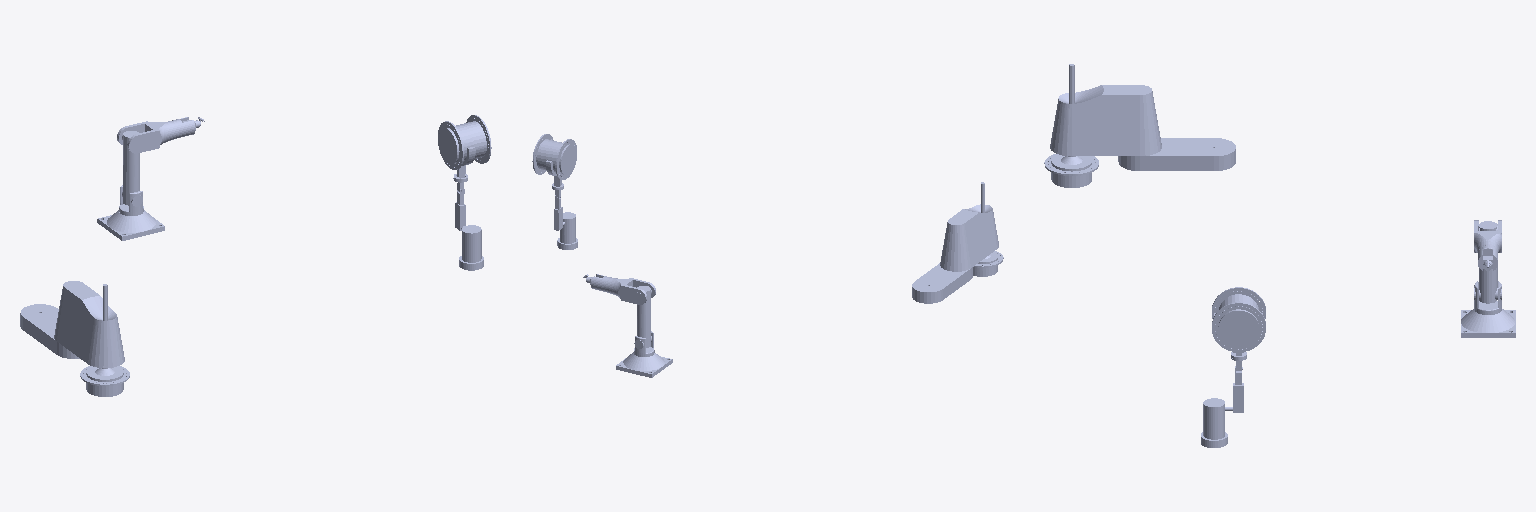
--- Render facts (derived) ---
The picture shows the robot from 3 angles, left to right: view 1: azimuth 30°, elevation 25°; view 2: azimuth 150°, elevation 25°; view 3: azimuth 270°, elevation 25°; orthographic projection.
Model combined_robot with 22 links and 21 joints (7 revolute, 6 continuous, 4 prismatic, 4 fixed), rooted at world, posed all joints at 0.
Visible links, largest first — view 1: link2, link_6a, link1, base_link_6achs, link_3_6achs, tool, link_2_6achs, link_1; view 2: link2, link_6a, link1, base_link_6achs, link_3_6achs, link_2_6achs; view 3: link2, link1, link_6a, base_link_6achs, tool, link_1, link_2_6achs, link_3_6achs.
Link boxes in pixels (left/top/right/bottom): link2: left=54, top=281, right=124, bottom=367; link_6a: left=438, top=115, right=491, bottom=176; link1: left=20, top=304, right=79, bottom=358; base_link_6achs: left=97, top=210, right=164, bottom=240; link_3_6achs: left=117, top=120, right=179, bottom=153; tool: left=80, top=366, right=129, bottom=396; link_2_6achs: left=122, top=131, right=142, bottom=206; link_1: left=462, top=225, right=481, bottom=262; link2: left=940, top=204, right=998, bottom=271; link_6a: left=532, top=134, right=576, bottom=186; link1: left=912, top=263, right=972, bottom=303; base_link_6achs: left=616, top=352, right=672, bottom=377; link_3_6achs: left=604, top=277, right=655, bottom=304; link_2_6achs: left=634, top=286, right=651, bottom=348; link2: left=1050, top=85, right=1161, bottom=155; link1: left=1118, top=138, right=1235, bottom=170; link_6a: left=1212, top=287, right=1265, bottom=355; base_link_6achs: left=1461, top=309, right=1515, bottom=337; tool: left=1044, top=154, right=1098, bottom=187; link_1: left=1203, top=398, right=1224, bottom=439; link_2_6achs: left=1474, top=221, right=1501, bottom=303; link_3_6achs: left=1474, top=220, right=1501, bottom=252.
Size in the robot's own frame: 2.2 by 1.72 by 0.6045 metres.
20 mesh visuals loaded from 21 distinct referenced files (20 binary STL); not drawn: 1 (reference not matched to a file when rendering).

The robot description file, URDF, robot "combined_robot":
<?xml version="1.0" encoding="utf-8" ?>
<!-- This URDF was automatically created by SolidWorks to URDF Exporter! Originally created by Stephen Brawner ([email redacted]) 
     Commit Version: 1.6.0-4-g7f85cfe  Build Version: 1.6.7995.38578
     For more information, please see http://wiki.ros.org/sw_urdf_exporter -->
    


<robot name="combined_robot">
     <!-- This first link called "world" is empty -->
<link name="world"></link>

<!-- A simple fixed joint from our empty world link, to our base. -->
<!-- The base origin is offset from the world origin. -->
<joint name="base_joint" type="fixed">
    <origin xyz="0 0 0" rpy="0 0 0"/>
    <parent link="world"/>
    <child link="base_link"/>        
</joint>

    <link name="base_link">
        <inertial>
            <origin xyz="0.0 0.0 0.0" rpy="0 0 0" />
            <mass value="2.6567611957561" />
            <inertia ixx="0.0168357984591433" ixy="4.82200266194366E-19" ixz="1.50069408169164E-18" iyy="0.0133970218668742" iyz="-0.000395379191915253" izz="0.0107623581223205" />
        </inertial>
        <visual>
            <origin xyz="0 0 0" rpy="0 0 0" />
            <geometry>
                <mesh filename="package://rod_gruppe9/meshes/scara/base_link.STL" />
            </geometry>
            <material name="">
                <color rgba="0.792156862745098 0.819607843137255 0.933333333333333 1" />
            </material>
        </visual>
        <collision>
            <origin xyz="0 0 0" rpy="0 0 0" />
            <geometry>
                <mesh filename="package://rod_gruppe9/meshes/scara/base_link.STL" />
            </geometry>
        </collision>
    </link>
    <link name="link1">
        <inertial>
            <origin xyz="0.135 -1.18507934044397E-17 0.03" rpy="0 0 0" />
            <mass value="3.78894680101771" />
            <inertia ixx="0.00859641966180862" ixy="1.32200727642509E-18" ixz="-4.58196296535307E-19" iyy="0.0516867751103564" iyz="1.27294101185764E-19" izz="0.0580098266915544" />
        </inertial>
        <visual>
            <origin xyz="0 0 0" rpy="0 0 0" />
            <geometry>
                <mesh filename="package://rod_gruppe9/meshes/scara/link1.STL" />
            </geometry>
            <material name="">
                <color rgba="0.792156862745098 0.819607843137255 0.933333333333333 1" />
            </material>
        </visual>
        <collision>
            <origin xyz="0 0 0" rpy="0 0 0" />
            <geometry>
                <mesh filename="package://rod_gruppe9/meshes/scara/link1.STL" />
            </geometry>
        </collision>
    </link>
    <joint name="joint1" type="continuous">
        <origin xyz="0 0 0.1975" rpy="0 0 -1.5708" />
        <parent link="base_link" />
        <child link="link1" />
        <axis xyz="0 0 1" />
        <limit lower="-3.1416" upper="3.1416" effort="300" velocity="3" />
    </joint>
    <link name="link2">
        <inertial>
            <origin xyz="0.119679645871635 -1.01210828955412E-16 0.105947989111426" rpy="0 0 0" />
            <mass value="9.47999512865787" />
            <inertia ixx="0.0493343542842483" ixy="2.57062906447754E-17" ixz="0.00487778045183892" iyy="0.134504349003584" iyz="-1.12084557614262E-18" izz="0.110533397930328" />
        </inertial>
        <visual>
            <origin xyz="0 0 0" rpy="0 0 0" />
            <geometry>
                <mesh filename="package://rod_gruppe9/meshes/scara/link2.STL" />
            </geometry>
            <material name="">
                <color rgba="0.792156862745098 0.819607843137255 0.933333333333333 1" />
            </material>
        </visual>
        <collision>
            <origin xyz="0 0 0" rpy="0 0 0" />
            <geometry>
                <mesh filename="package://rod_gruppe9/meshes/scara/link2.STL" />
            </geometry>
        </collision>
    </link>
    <joint name="joint2" type="revolute">
        <origin xyz="0.27 0 0.05" rpy="0 0 0" />
        <parent link="link1" />
        <child link="link2" />
        <axis xyz="0 0 1" />
        <limit lower="-3.1416" upper="3.1416" effort="200" velocity="3" />
    </joint>
    <link name="link3">
        <inertial>
            <origin xyz="0 2.76777304672324E-16 -0.152880740442008" rpy="0 0 0" />
            <mass value="0.0903207887907068" />
            <inertia ixx="0.00107497738302875" ixy="8.91804097908733E-22" ixz="8.08042713685118E-20" iyy="0.00107497738302875" iyz="1.30058416910138E-20" izz="7.66744957016757E-06" />
        </inertial>
        <visual>
            <origin xyz="0 0 0" rpy="0 0 0" />
            <geometry>
                <mesh filename="package://rod_gruppe9/meshes/scara/link3.STL" />
            </geometry>
            <material name="">
                <color rgba="0.792156862745098 0.819607843137255 0.933333333333333 1" />
            </material>
        </visual>
        <collision>
            <origin xyz="0 0 0" rpy="0 0 0" />
            <geometry>
                <mesh filename="package://rod_gruppe9/meshes/scara/link3.STL" />
            </geometry>
        </collision>
    </link>
    <joint
    name="joint3"
    type="prismatic">
    <origin
      xyz="0.25 0 0"
      rpy="3.14159265358979 0 0" />
    <parent
      link="link2" />
    <child
      link="link3" />
    <axis
      xyz="0 0 1" />
    <limit
      lower="0"
      upper="0.25"
      effort="200"
      velocity="1" />
    </joint>
    <link name="tool">
        <inertial>
            <origin xyz="0 4.84716480263527E-15 0.0173861724616842" rpy="0 0 0" />
            <mass value="0.0678521800680965" />
            <inertia ixx="2.32022327419396E-05" ixy="2.11318797113156E-21" ixz="7.37140243810216E-22" iyy="2.32022327419396E-05" iyz="3.18177719294624E-21" izz="3.08931138771722E-05" />
        </inertial>
        <visual>
            <origin xyz="0 0 0" rpy="0 0 0" />
            <geometry>
                <mesh filename="package://rod_gruppe9/meshes/scara/tool.STL" />
            </geometry>
            <material name="">
                <color rgba="0.792156862745098 0.819607843137255 0.933333333333333 1" />
            </material>
        </visual>
        <collision>
            <origin xyz="0 0 0" rpy="0 0 0" />
            <geometry>
                <mesh filename="package://rod_gruppe9/meshes/scara/tool.STL" />
            </geometry>
        </collision>
    </link>
    <joint name="joint4" type="continuous">
        <origin xyz="0 0 0.013206" rpy="0 0 0" />
        <parent link="link3" />
        <child link="tool" />
        <axis xyz="0 0 1" />
        <limit lower="-3.1416" upper="3.1416" effort="200" velocity="3" />
    </joint>

    <transmission name="link1_trans">
        <type>transmission_interface/SimpleTransmission</type>
        <joint name="joint1">
            <hardwareInterface>hardware_interface/PositionJointInterface</hardwareInterface>
        </joint>
        <actuator name="link1_motor">
            <hardwareInterface>hardware_interface/PositionJointInterface</hardwareInterface>
            <mechanicalReduction>1</mechanicalReduction>
        </actuator>
    </transmission>

    <transmission name="link2_trans">
        <type>transmission_interface/SimpleTransmission</type>
        <joint name="joint2">
            <hardwareInterface>hardware_interface/PositionJointInterface</hardwareInterface>
        </joint>
        <actuator name="link2_motor">
            <hardwareInterface>hardware_interface/PositionJointInterface</hardwareInterface>
            <mechanicalReduction>1</mechanicalReduction>
        </actuator>
    </transmission>

    <transmission name="link3_trans">
        <type>transmission_interface/SimpleTransmission</type>
        <joint name="joint3">
            <hardwareInterface>hardware_interface/PositionJointInterface</hardwareInterface>
        </joint>
        <actuator name="link3_motor">
            <hardwareInterface>hardware_interface/PositionJointInterface</hardwareInterface>
            <mechanicalReduction>1</mechanicalReduction>
        </actuator>
    </transmission>    
    <transmission name="link4_trans">
        <type>transmission_interface/SimpleTransmission</type>
        <joint name="joint4">
            <hardwareInterface>hardware_interface/PositionJointInterface</hardwareInterface>
        </joint>
        <actuator name="link4_motor">
            <hardwareInterface>hardware_interface/PositionJointInterface</hardwareInterface>
            <mechanicalReduction>1</mechanicalReduction>
        </actuator>
    </transmission>

    <gazebo>
        <plugin name="control" filename="libgazebo_ros_control.so">
            <robotNamespace>/</robotNamespace>
        </plugin>
    </gazebo>


    <!-- A simple fixed joint from our empty world link, to our base. -->
    <!-- The base origin is offset from the world origin. -->
    <joint name="base_joint_stand" type="fixed">
    <origin xyz="2 0 0" rpy="0 0 0"/>
    <parent link="world"/>
    <child link="base_link_stand"/>        
    </joint>
     <link name="base_link_stand">
        <inertial>
            <origin xyz="4.9435E-35 5.4554E-20 0.011279" rpy="0 0 0" />
            <mass value="0.13509" />
            <inertia ixx="0.00011699" ixy="-4.5215E-37" ixz="-4.8534E-37" iyy="0.00011699" iyz="9.9676E-21" izz="0.0002141" />
        </inertial>
        <visual>
            <origin xyz="0 0 0" rpy="0 0 0" />
            <geometry>
                <mesh filename="package://rod_gruppe9/meshes/sf/base_link.STL" />
            </geometry>
            <material name="">
                <color rgba="0.79216 0.81961 0.93333 1" />
            </material>
        </visual>
        <collision>
            <origin xyz="0 0 0" rpy="0 0 0" />
            <geometry>
                <mesh filename="package://rod_gruppe9/meshes/sf/base_link.STL" />
            </geometry>
        </collision>
    </link>
    <link name="link_1">
        <inertial>
            <origin xyz="-7.4891E-10 -4.7885E-05 0.074934" rpy="0 0 0" />
            <mass value="0.75302" />
            <inertia ixx="0.0017114" ixy="1.8868E-11" ixz="2.447E-11" iyy="0.0017127" iyz="1.8546E-06" izz="0.00060182" />
        </inertial>
        <visual>
            <origin xyz="0 0 0" rpy="0 0 0" />
            <geometry>
                <mesh filename="package://rod_gruppe9/meshes/sf/link_1.STL" />
            </geometry>
            <material name="">
                <color rgba="0.79216 0.81961 0.93333 1" />
            </material>
        </visual>
        <collision>
            <origin xyz="0 0 0" rpy="0 0 0" />
            <geometry>
                <mesh filename="package://rod_gruppe9/meshes/sf/link_1.STL" />
            </geometry>
        </collision>
    </link>
    <joint name="joint_1" type="revolute">
        <origin xyz="0 0 0.00999999999999999" rpy="0 0 0" />
        <parent link="base_link_stand" />
        <child link="link_1" />
        <axis xyz="0 0 1" />
        <limit lower="-3.142" upper="3.142" effort="300" velocity="3" />
    </joint>
    <link name="link_2">
        <inertial>
            <origin xyz="-0.00046328 0.036544 0.051063" rpy="0 0 0" />
            <mass value="0.067037" />
            <inertia ixx="7.8176E-05" ixy="7.7561E-07" ixz="-9.2615E-09" iyy="1.7005E-05" iyz="7.3056E-07" izz="6.9541E-05" />
        </inertial>
        <visual>
            <origin xyz="0 0 0" rpy="0 0 0" />
            <geometry>
                <mesh filename="package://rod_gruppe9/meshes/sf/link_2.STL" />
            </geometry>
            <material name="">
                <color rgba="0.79216 0.81961 0.93333 1" />
            </material>
        </visual>
        <collision>
            <origin xyz="0 0 0" rpy="0 0 0" />
            <geometry>
                <mesh filename="package://rod_gruppe9/meshes/sf/link_2.STL" />
            </geometry>
        </collision>
    </link>
    <joint name="joint_2" type="revolute">
        <origin xyz="0 0.0350000000000001 0.126355838406198" rpy="1.5707963267949 0 3.14159265358979" />
        <parent link="link_1" />
        <child link="link_2" />
        <axis xyz="0 0 1" />
        <limit lower="-3.142" upper="3.142" effort="200" velocity="3" />
    </joint>
    <link name="link_3">
        <inertial>
            <origin xyz="0 -6.3708E-16 0.051846" rpy="0 0 0" />
            <mass value="0.051607" />
            <inertia ixx="4.8927E-05" ixy="4.7724E-22" ixz="2.7252E-21" iyy="5.0005E-05" iyz="5.5849E-19" izz="4.5393E-06" />
        </inertial>
        <visual>
            <origin xyz="0 0 0" rpy="0 0 0" />
            <geometry>
                <mesh filename="package://rod_gruppe9/meshes/sf/link_3.STL" />
            </geometry>
            <material name="">
                <color rgba="0.79216 0.81961 0.93333 1" />
            </material>
        </visual>
        <collision>
            <origin xyz="0 0 0" rpy="0 0 0" />
            <geometry>
                <mesh filename="package://rod_gruppe9/meshes/sf/link_3.STL" />
            </geometry>
        </collision>
    </link>
    <joint name="joint_3" type="prismatic">
        <origin xyz="-0.0006355 0.050129 0.055" rpy="-1.5835 1.5708 0" />
        <parent link="link_2" />
        <child link="link_3" />
        <axis xyz="0 0 1" />
        <limit lower="-0.04" upper="0.04" effort="100" velocity="3" />
    </joint>
    <link name="link_4">
        <inertial>
            <origin xyz="-0.00045006 0.029931 1.3878E-17" rpy="0 0 0" />
            <mass value="0.03453" />
            <inertia ixx="1.5049E-05" ixy="9.1656E-08" ixz="3.1495E-23" iyy="7.8206E-06" iyz="4.2911E-23" izz="1.4931E-05" />
        </inertial>
        <visual>
            <origin xyz="0 0 0" rpy="0 0 0" />
            <geometry>
                <mesh filename="package://rod_gruppe9/meshes/sf/link_4.STL" />
            </geometry>
            <material name="">
                <color rgba="0.79216 0.81961 0.93333 1" />
            </material>
        </visual>
        <collision>
            <origin xyz="0 0 0" rpy="0 0 0" />
            <geometry>
                <mesh filename="package://rod_gruppe9/meshes/sf/link_4.STL" />
            </geometry>
        </collision>
    </link>
    <joint name="joint_4" type="revolute">
        <origin xyz="0 7.0607E-05 0.113" rpy="1.5708 0.012677 1.5708" />
        <parent link="link_3" />
        <child link="link_4" />
        <axis xyz="0 0 -1" />
        <limit lower="-2" upper="2" effort="200" velocity="3" />
    </joint>
    <link name="link_5">
        <inertial>
            <origin xyz="0 -2.2118E-17 0.0042083" rpy="0 0 0" />
            <mass value="0.022667" />
            <inertia ixx="6.1085E-06" ixy="-1.0751E-22" ixz="-2.6291E-22" iyy="5.7585E-06" iyz="-2.0494E-20" izz="1.1478E-05" />
        </inertial>
        <visual>
            <origin xyz="0 0 0" rpy="0 0 0" />
            <geometry>
                <mesh filename="package://rod_gruppe9/meshes/sf/link_5.STL" />
            </geometry>
            <material name="">
                <color rgba="0.79216 0.81961 0.93333 1" />
            </material>
        </visual>
        <collision>
            <origin xyz="0 0 0" rpy="0 0 0" />
            <geometry>
                <mesh filename="package://rod_gruppe9/meshes/sf/link_5.STL" />
            </geometry>
        </collision>
    </link>
    <joint name="joint_5" type="continuous">
        <origin xyz="-0.0006972 0.049426 0" rpy="-1.5835 1.5708 0" />arm
        <parent link="link_4" />
        <child link="link_5" />
        <axis xyz="0 0 1" />
        <limit lower="-3.142" upper="3.142" effort="200" velocity="3" />
    </joint>
    <link name="link_6a">
        <inertial>
            <origin xyz="0.013904 0.086561 0.044102" rpy="0 0 0" />
            <mass value="0.08179" />
            <inertia ixx="0.00021265" ixy="1.625E-06" ixz="1.1908E-06" iyy="8.4494E-05" iyz="-9.3935E-05" izz="0.00014047" />
        </inertial>
        <visual>
            <origin xyz="0 0 0" rpy="0 0 0" />
            <geometry>
                <mesh filename="package://rod_gruppe9/meshes/sf/link_6a.STL" />
            </geometry>
            <material name="">
                <color rgba="0.79216 0.81961 0.93333 1" />
            </material>
        </visual>
        <collision>
            <origin xyz="0 0 0" rpy="0 0 0" />
            <geometry>
                <mesh filename="package://rod_gruppe9/meshes/sf/link_6a.STL" />
            </geometry>
        </collision>
    </link>
    <joint name="joint_6a" type="prismatic">
        <origin xyz="0 -0.015 0.00499999999999995" rpy="1.5707963267949 0.0126766145015173 1.5707963267949" />
        <parent link="link_5" />
        <child link="link_6a" />
        <axis xyz="0 0 -1" />
        <limit lower="-0.01" upper="0" effort="100" velocity="3" />
    </joint>
    <link name="link_6b">
        <inertial>
            <origin xyz="0.016094 0.08618 0.044102" rpy="0 0 0" />
            <mass value="0.08179" />
            <inertia ixx="0.00021265" ixy="-1.625E-06" ixz="-1.1908E-06" iyy="8.4494E-05" iyz="-9.3935E-05" izz="0.00014047" />
        </inertial>
        <visual>
            <origin xyz="0 0 0" rpy="0 0 0" />
            <geometry>
                <mesh filename="package://rod_gruppe9/meshes/sf/link_6b.STL" />
            </geometry>
            <material name="">
                <color rgba="0.79216 0.81961 0.93333 1" />
            </material>
        </visual>
        <collision>
            <origin xyz="0 0 0" rpy="0 0 0" />
            <geometry>
                <mesh filename="package://rod_gruppe9/meshes/sf/link_6b.STL" />
            </geometry>
        </collision>
    </link>
    <joint name="joint_6b" type="prismatic">
        <origin xyz="0 0.015 0.005" rpy="1.5707963267949 -0.0126766145015173 -1.5707963267949" />
        <parent link="link_5" />
        <child link="link_6b" />
        <axis xyz="0 0 1" />
        <limit lower="0" upper="0.01" effort="100" velocity="3" />
    </joint>

    <transmission name="joint_1_trans">
        <type>transmission_interface/SimpleTransmission</type>
        <joint name="joint_1">
            <hardwareInterface>hardware_interface/PositionJointInterface</hardwareInterface>
        </joint>
        <actuator name="joint_1_motor">
            <hardwareInterface>hardware_interface/PositionJointInterface</hardwareInterface>
            <mechanicalReduction>1</mechanicalReduction>
        </actuator>
    </transmission>
    <transmission name="joint_2_trans">
        <type>transmission_interface/SimpleTransmission</type>
        <joint name="joint_2">
            <hardwareInterface>hardware_interface/PositionJointInterface</hardwareInterface>
        </joint>
        <actuator name="joint_2_motor">
            <hardwareInterface>hardware_interface/PositionJointInterface</hardwareInterface>
            <mechanicalReduction>1</mechanicalReduction>
        </actuator>
    </transmission>
    <transmission name="joint_3_trans">
        <type>transmission_interface/SimpleTransmission</type>
        <joint name="joint_3">
            <hardwareInterface>hardware_interface/PositionJointInterface</hardwareInterface>
        </joint>
        <actuator name="joint_3_motor">
            <hardwareInterface>hardware_interface/PositionJointInterface</hardwareInterface>
            <mechanicalReduction>1</mechanicalReduction>
        </actuator>
    </transmission>
    <transmission name="joint_4_trans">
        <type>transmission_interface/SimpleTransmission</type>
        <joint name="joint_4">
            <hardwareInterface>hardware_interface/PositionJointInterface</hardwareInterface>
        </joint>
        <actuator name="joint_4_motor">
            <hardwareInterface>hardware_interface/PositionJointInterface</hardwareInterface>
            <mechanicalReduction>1</mechanicalReduction>
        </actuator>
    </transmission>
    <transmission name="joint_5_trans">
        <type>transmission_interface/SimpleTransmission</type>
        <joint name="joint_5">
            <hardwareInterface>hardware_interface/PositionJointInterface</hardwareInterface>
        </joint>
        <actuator name="joint_5_motor">
            <hardwareInterface>hardware_interface/PositionJointInterface</hardwareInterface>
            <mechanicalReduction>1</mechanicalReduction>
        </actuator>
    </transmission>
    <transmission name="joint_6a_trans">
        <type>transmission_interface/SimpleTransmission</type>
        <joint name="joint_6a">
            <hardwareInterface>hardware_interface/PositionJointInterface</hardwareInterface>
        </joint>
        <actuator name="joint_6a_motor">
            <hardwareInterface>hardware_interface/PositionJointInterface</hardwareInterface>
            <mechanicalReduction>1</mechanicalReduction>
        </actuator>
    </transmission>
    <transmission name="joint_6b_trans">
        <type>transmission_interface/SimpleTransmission</type>
        <joint name="joint_6b">
            <hardwareInterface>hardware_interface/PositionJointInterface</hardwareInterface>
        </joint>
        <actuator name="joint_6b_motor">
            <hardwareInterface>hardware_interface/PositionJointInterface</hardwareInterface>
            <mechanicalReduction>1</mechanicalReduction>
        </actuator>
    </transmission>



<!-- A simple fixed joint from our empty world link, to our base. -->
<!-- The base origin is offset from the world origin. -->
<joint name="base_joint_6achs" type="fixed">
    <origin xyz="1 1 0" rpy="0 0 0"/>
    <parent link="world"/>
    <child link="base_link_6achs"/>
</joint>
    <link name="base_link_6achs">
        <inertial>
            <origin xyz="-7.65913819225736E-18 -1.65225008627066E-17 0.0231174307669445" rpy="0 0 0" />
            <mass value="1.48126745690034" />
            <inertia ixx="0.00443828527591986" ixy="-1.12496563307212E-19" ixz="-8.00391412143529E-20" iyy="0.00443828527591986" iyz="-1.31127790466798E-19" izz="0.00801675599160512" />
        </inertial>
        <visual>
            <origin xyz="0 0 0" rpy="0 0 0" />
            <geometry>
                <mesh filename="package://rod_gruppe9/meshes/industrie/base_link.STL" />
            </geometry>
            <material name="">
                <color rgba="0.792156862745098 0.819607843137255 0.933333333333333 1" />
            </material>
        </visual>
        <collision>
            <origin xyz="0 0 0" rpy="0 0 0" />
            <geometry>
                <mesh filename="package://rod_gruppe9/meshes/industrie/base_link.STL" />
            </geometry>
        </collision>
    </link>
    <link name="link_1_6achs">
        <inertial>
            <origin xyz="1.99528726028179E-07 0.0486270641944972 2.10351221188802E-07" rpy="0 0 0" />
            <mass value="0.438280954269068" />
            <inertia ixx="0.000715853112437167" ixy="9.52592448290363E-10" ixz="-3.79963987259125E-10" iyy="0.000472021483764293" iyz="-3.08273105834107E-09" izz="0.000632953259889368" />
        </inertial>
        <visual>
            <origin xyz="0 0 0" rpy="0 0 0" />
            <geometry>
                <mesh filename="package://rod_gruppe9/meshes/industrie/link_1.STL" />
            </geometry>
            <material name="">
                <color rgba="0.792156862745098 0.819607843137255 0.933333333333333 1" />
            </material>
        </visual>
        <collision>
            <origin xyz="0 0 0" rpy="0 0 0" />
            <geometry>
                <mesh filename="package://rod_gruppe9/meshes/industrie/link_1.STL" />
            </geometry>
        </collision>
    </link>
    <joint name="joint_1_6achs" type="continuous">
        <origin xyz="0 0 0.02" rpy="1.5708 0 -0.004171" />
        <parent link="base_link_6achs" />
        <child link="link_1_6achs" />
        <axis xyz="0 1 0" />
        <limit lower="-3.142" upper="3.142" effort="300" velocity="3" />
    </joint>
    <link name="link_2_6achs">
        <inertial>
            <origin xyz="-4.2478E-08 0.125 -3.4596E-08" rpy="0 0 0" />
            <mass value="1.2912" />
            <inertia ixx="0.011403" ixy="9.72E-10" ixz="-2.0875E-08" iyy="0.00096657" iyz="-3.0854E-10" izz="0.011193" />
        </inertial>
        <visual>
            <origin xyz="0 0 0" rpy="0 0 0" />
            <geometry>
                <mesh filename="package://rod_gruppe9/meshes/industrie/link_2.STL" />
            </geometry>
            <material name="">
                <color rgba="0.79216 0.81961 0.93333 1" />
            </material>
        </visual>
        <collision>
            <origin xyz="0 0 0" rpy="0 0 0" />
            <geometry>
                <mesh filename="package://rod_gruppe9/meshes/industrie/link_2.STL" />
            </geometry>
        </collision>
    </link>
    <joint name="joint_2_6achs" type="revolute">
        <origin xyz="0 0.115 0" rpy="0 0 -0.0040796" />
        <parent link="link_1_6achs" />
        <child link="link_2_6achs" />
        <axis xyz="0 0 -1" />
        <limit lower="-1.57" upper="1.57" effort="200" velocity="3" />
    </joint>
    <link name="link_3_6achs">
        <inertial>
            <origin xyz="0.109348441575462 -1.99745626816572E-07 5.31674409937197E-06" rpy="0 0 0" />
            <mass value="0.920734584243157" />
            <inertia ixx="0.00123481503488863" ixy="1.88791641606062E-09" ixz="-9.69904621001955E-08" iyy="0.00353416759146799" iyz="-7.51685200619273E-08" izz="0.00318564736605118" />
        </inertial>
        <visual>
            <origin xyz="0 0 0" rpy="0 0 0" />
            <geometry>
                <mesh filename="package://rod_gruppe9/meshes/industrie/link_3.STL" />
            </geometry>
            <material name="">
                <color rgba="0.792156862745098 0.819607843137255 0.933333333333333 1" />
            </material>
        </visual>
        <collision>
            <origin xyz="0 0 0" rpy="0 0 0" />
            <geometry>
                <mesh filename="package://rod_gruppe9/meshes/industrie/link_3.STL" />
            </geometry>
        </collision>
    </link>
    <joint name="joint_3_6achs" type="revolute">
        <origin xyz="0 0.25 0" rpy="0 0 0.0040796" />
        <parent link="link_2_6achs" />
        <child link="link_3_6achs" />
        <axis xyz="0 0 1" />
        <limit lower="-1" upper="3.842" effort="200" velocity="3" />
    </joint>
    <link name="link_4_6achs">
        <inertial>
            <origin xyz="-1.4159E-05 -5.3011E-08 0.0294" rpy="0 0 0" />
            <mass value="0.20568" />
            <inertia ixx="0.00015971" ixy="-1.5609E-09" ixz="6.3762E-08" iyy="0.00020268" iyz="2.0077E-10" izz="0.00016446" />
        </inertial>
        <visual>
            <origin xyz="0 0 0" rpy="0 0 0" />
            <geometry>
                <mesh filename="package://rod_gruppe9/meshes/industrie/link_4.STL" />
            </geometry>
            <material name="">
                <color rgba="0.79216 0.81961 0.93333 1" />
            </material>
        </visual>
        <collision>
            <origin xyz="0 0 0" rpy="0 0 0" />
            <geometry>
                <mesh filename="package://rod_gruppe9/meshes/industrie/link_4.STL" />
            </geometry>
        </collision>
    </link>
    <joint name="joint_4_6achs" type="continuous">
        <origin xyz="0.2 0 -0.0008228" rpy="0 1.5708 0" />
        <parent link="link_3_6achs" />
        <child link="link_4_6achs" />
        <axis xyz="0 0 1" />
        <limit lower="-3.142" upper="3.142" effort="200" velocity="3" />
    </joint>
    <link name="link_5_6achs">
        <inertial>
            <origin xyz="0.0142499205576026 -5.84687838128817E-05 0.000181348520742203" rpy="0 0 0" />
            <mass value="0.0654655001023935" />
            <inertia ixx="1.27177294982131E-05" ixy="5.0014856558915E-08" ixz="-4.16535488254867E-08" iyy="2.49588859772313E-05" iyz="1.78273937310105E-10" izz="2.45679149734406E-05" />
        </inertial>
        <visual>
            <origin xyz="0 0 0" rpy="0 0 0" />
            <geometry>
                <mesh filename="package://rod_gruppe9/meshes/industrie/link_5.STL" />
            </geometry>
            <material name="">
                <color rgba="0.792156862745098 0.819607843137255 0.933333333333333 1" />
            </material>
        </visual>
        <collision>
            <origin xyz="0 0 0" rpy="0 0 0" />
            <geometry>
                <mesh filename="package://rod_gruppe9/meshes/industrie/link_5.STL" />
            </geometry>
        </collision>
    </link>
    <joint name="joint_5_6achs" type="revolute">
        <origin xyz="0.00022572 0 0.051381" rpy="0 -1.5708 0" />
        <parent link="link_4_6achs" />
        <child link="link_5_6achs" />
        <axis xyz="0 0 1" />
        <limit lower="-1.57" upper="1.57" effort="200" velocity="3" />
    </joint>
    <link name="link_6_6achs">
        <inertial>
            <origin xyz="5.5511E-17 2.2204E-16 0.0125" rpy="0 0 0" />
            <mass value="0.00968" />
            <inertia ixx="9.4706E-07" ixy="-1.8529E-22" ixz="-5.2733E-23" iyy="9.4706E-07" iyz="3.3521E-22" izz="8.8577E-07" />
        </inertial>
        <visual>
            <origin xyz="0 0 0" rpy="0 0 0" />
            <geometry>
                <mesh filename="package://rod_gruppe9/meshes/industrie/link_6.STL" />
            </geometry>
            <material name="">
                <color rgba="0.79216 0.81961 0.93333 1" />
            </material>
        </visual>
        <collision>
            <origin xyz="0 0 0" rpy="0 0 0" />
            <geometry>
                <mesh filename="package://rod_gruppe9/meshes/industrie/link_6.STL" />
            </geometry>
        </collision>
    </link>
    <joint name="joint_6_6achs" type="continuous">
        <origin xyz="0.034928 -0.00014279 0.00022572" rpy="-1.5708 0.7854 -1.5749" />
        <parent link="link_5_6achs" />
        <child link="link_6_6achs" />
        <axis xyz="0 0 1" />
        <limit lower="-3.142" upper="3.142" effort="200" velocity="3" />
    </joint>
    <link name="link_7_6achs">
        <inertial>
            <origin xyz="-1.0716E-08 -0.0093376 0.0028893" rpy="0 0 0" />
            <mass value="0.0042407" />
            <inertia ixx="5.3114E-07" ixy="-9.2275E-14" ixz="8.2658E-14" iyy="2.2258E-07" iyz="6.9489E-08" izz="4.6353E-07" />
        </inertial>
        <visual>
            <origin xyz="0 0 0" rpy="0 0 0" />
            <geometry>
                <mesh filename="package://rod_gruppe9/meshes/industrie/link_7.STL" />
            </geometry>
            <material name="">
                <color rgba="0.79216 0.81961 0.93333 1" />
            </material>
        </visual>
        <collision>
            <origin xyz="0 0 0" rpy="0 0 0" />
            <geometry>
                <mesh filename="package://rod_gruppe9/meshes/industrie/link_7.STL" />
            </geometry>
        </collision>
    </link>
    <joint name="joint_7_6achs" type="fixed">
        <origin xyz="0 0 0.0280000000000002" rpy="0 0 -2.35619449019227" />
        <parent link="link_6_6achs" />
        <child link="link_7_6achs" />
        <axis xyz="0 0 0" />
    </joint>
    <transmission name="trans_joint_1_6achs">
        <type>transmission_interface/SimpleTransmission</type>
        <joint name="joint_1_6achs">
            <hardwareInterface>hardware_interface/PositionJointInterface</hardwareInterface>
        </joint>
        <actuator name="joint_1_motor_6achs">
            <hardwareInterface>hardware_interface/PositionJointInterface</hardwareInterface>
            <mechanicalReduction>1</mechanicalReduction>
        </actuator>
    </transmission>
    <transmission name="trans_joint_2_6achs">
        <type>transmission_interface/SimpleTransmission</type>
        <joint name="joint_2_6achs">
            <hardwareInterface>hardware_interface/PositionJointInterface</hardwareInterface>
        </joint>
        <actuator name="joint_2_motor_6achs">
            <hardwareInterface>hardware_interface/PositionJointInterface</hardwareInterface>
            <mechanicalReduction>1</mechanicalReduction>
        </actuator>
    </transmission>
    <transmission name="trans_joint_3_6achs">
        <type>transmission_interface/SimpleTransmission</type>
        <joint name="joint_3_6achs">
            <hardwareInterface>hardware_interface/PositionJointInterface</hardwareInterface>
        </joint>
        <actuator name="joint_3_motor_6achs">
            <hardwareInterface>hardware_interface/PositionJointInterface</hardwareInterface>
            <mechanicalReduction>1</mechanicalReduction>
        </actuator>
    </transmission>
    <transmission name="trans_joint_4_6achs">
        <type>transmission_interface/SimpleTransmission</type>
        <joint name="joint_4_6achs">
            <hardwareInterface>hardware_interface/PositionJointInterface</hardwareInterface>
        </joint>
        <actuator name="joint_4_motor_6achs">
            <hardwareInterface>hardware_interface/PositionJointInterface</hardwareInterface>
            <mechanicalReduction>1</mechanicalReduction>
        </actuator>
    </transmission>
    <transmission name="trans_joint_5_6achs">
        <type>transmission_interface/SimpleTransmission</type>
        <joint name="joint_5_6achs">
            <hardwareInterface>hardware_interface/PositionJointInterface</hardwareInterface>
        </joint>
        <actuator name="joint_5_motor_6achs">
            <hardwareInterface>hardware_interface/PositionJointInterface</hardwareInterface>
            <mechanicalReduction>1</mechanicalReduction>
        </actuator>
    </transmission>
    <transmission name="trans_joint_6_6achs">
        <type>transmission_interface/SimpleTransmission</type>
        <joint name="joint_6_6achs">
            <hardwareInterface>hardware_interface/PositionJointInterface</hardwareInterface>
        </joint>
        <actuator name="joint_6_motor_6achs">
            <hardwareInterface>hardware_interface/PositionJointInterface</hardwareInterface>
            <mechanicalReduction>1</mechanicalReduction>
        </actuator>
    </transmission>

</robot>
